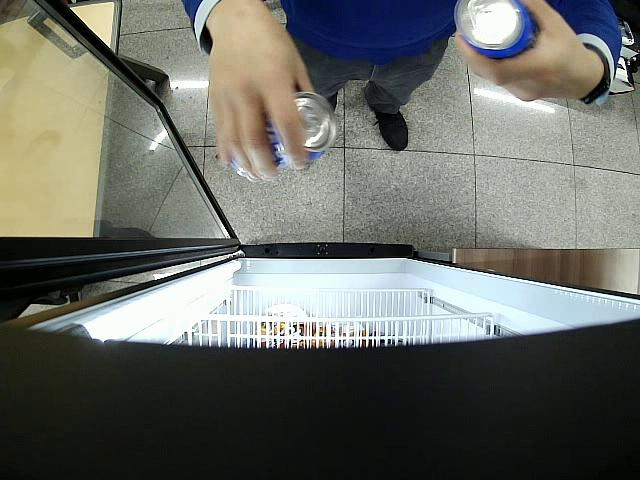00_hand: (207, 26, 315, 182), (454, 0, 582, 102)
13_pocariSweat: (231, 92, 337, 180), (454, 0, 540, 60)
